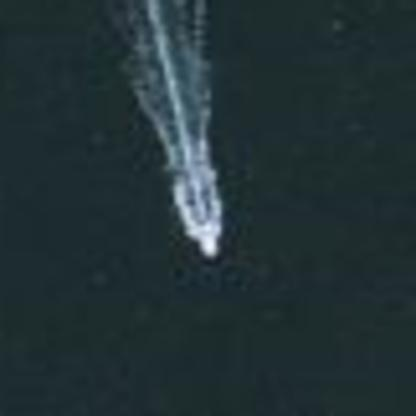ship: (188, 232, 228, 266)
